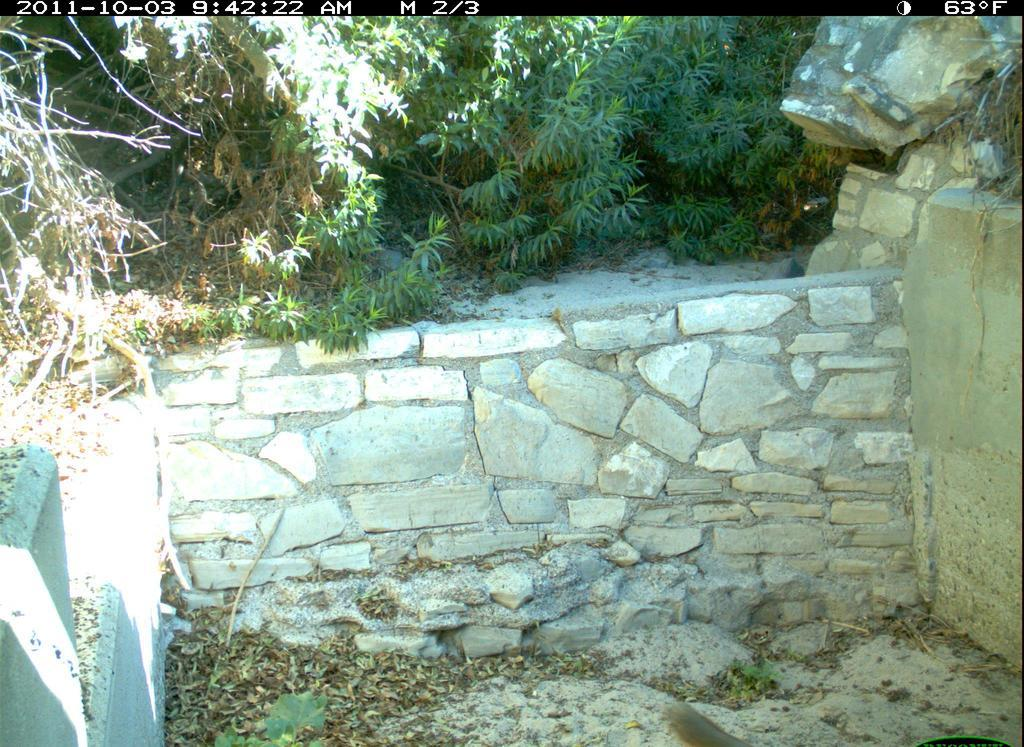squirrel: (661, 696, 772, 747)
